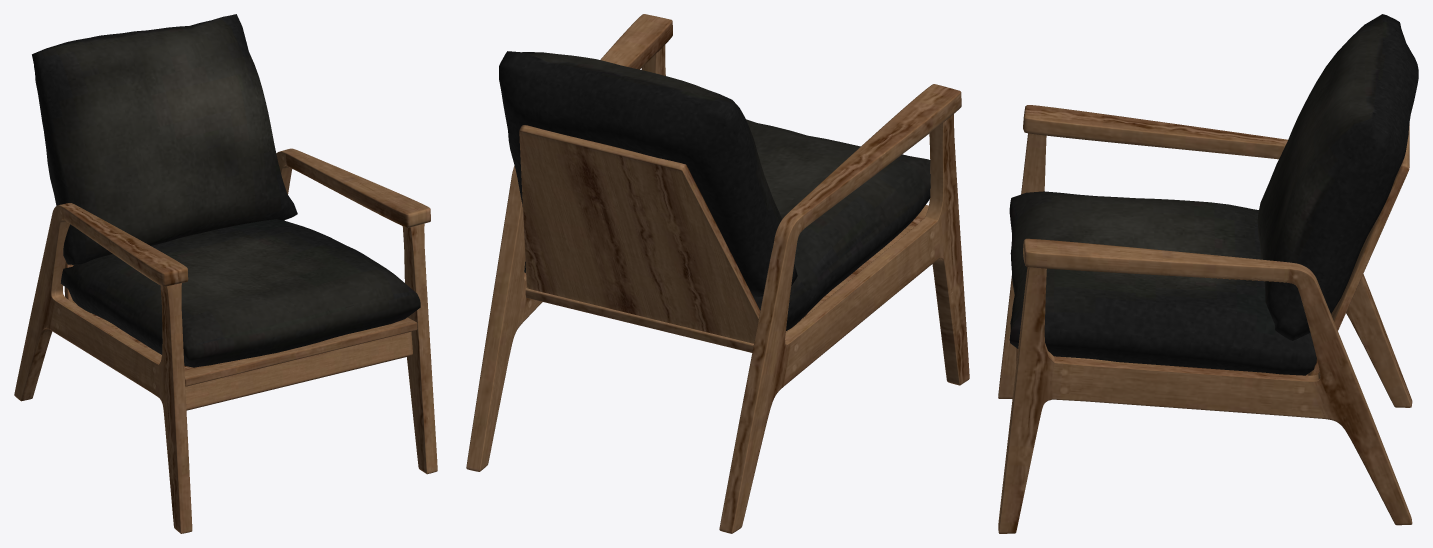
The model's file is modern_arm_chair_01.glb.
The picture shows the model from 3 angles, left to right: view 1: azimuth 30°, elevation 25°; view 2: azimuth 150°, elevation 25°; view 3: azimuth 270°, elevation 25°; orthographic projection. The views are drawn at different scales.
Parts seen in each view (by area): view 1: modern_arm_chair_01; view 2: modern_arm_chair_01; view 3: modern_arm_chair_01.
Boxes of the visible parts, x1,y1,x2,y2 form: modern_arm_chair_01: [14, 14, 437, 533]; modern_arm_chair_01: [466, 14, 969, 533]; modern_arm_chair_01: [998, 14, 1418, 533].
Bounding box in the file's own units: 0.8203 × 1.02 × 0.9865.
2 materials, 2 textured.
